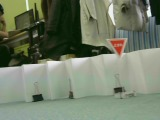stop: (105, 36, 129, 60)
